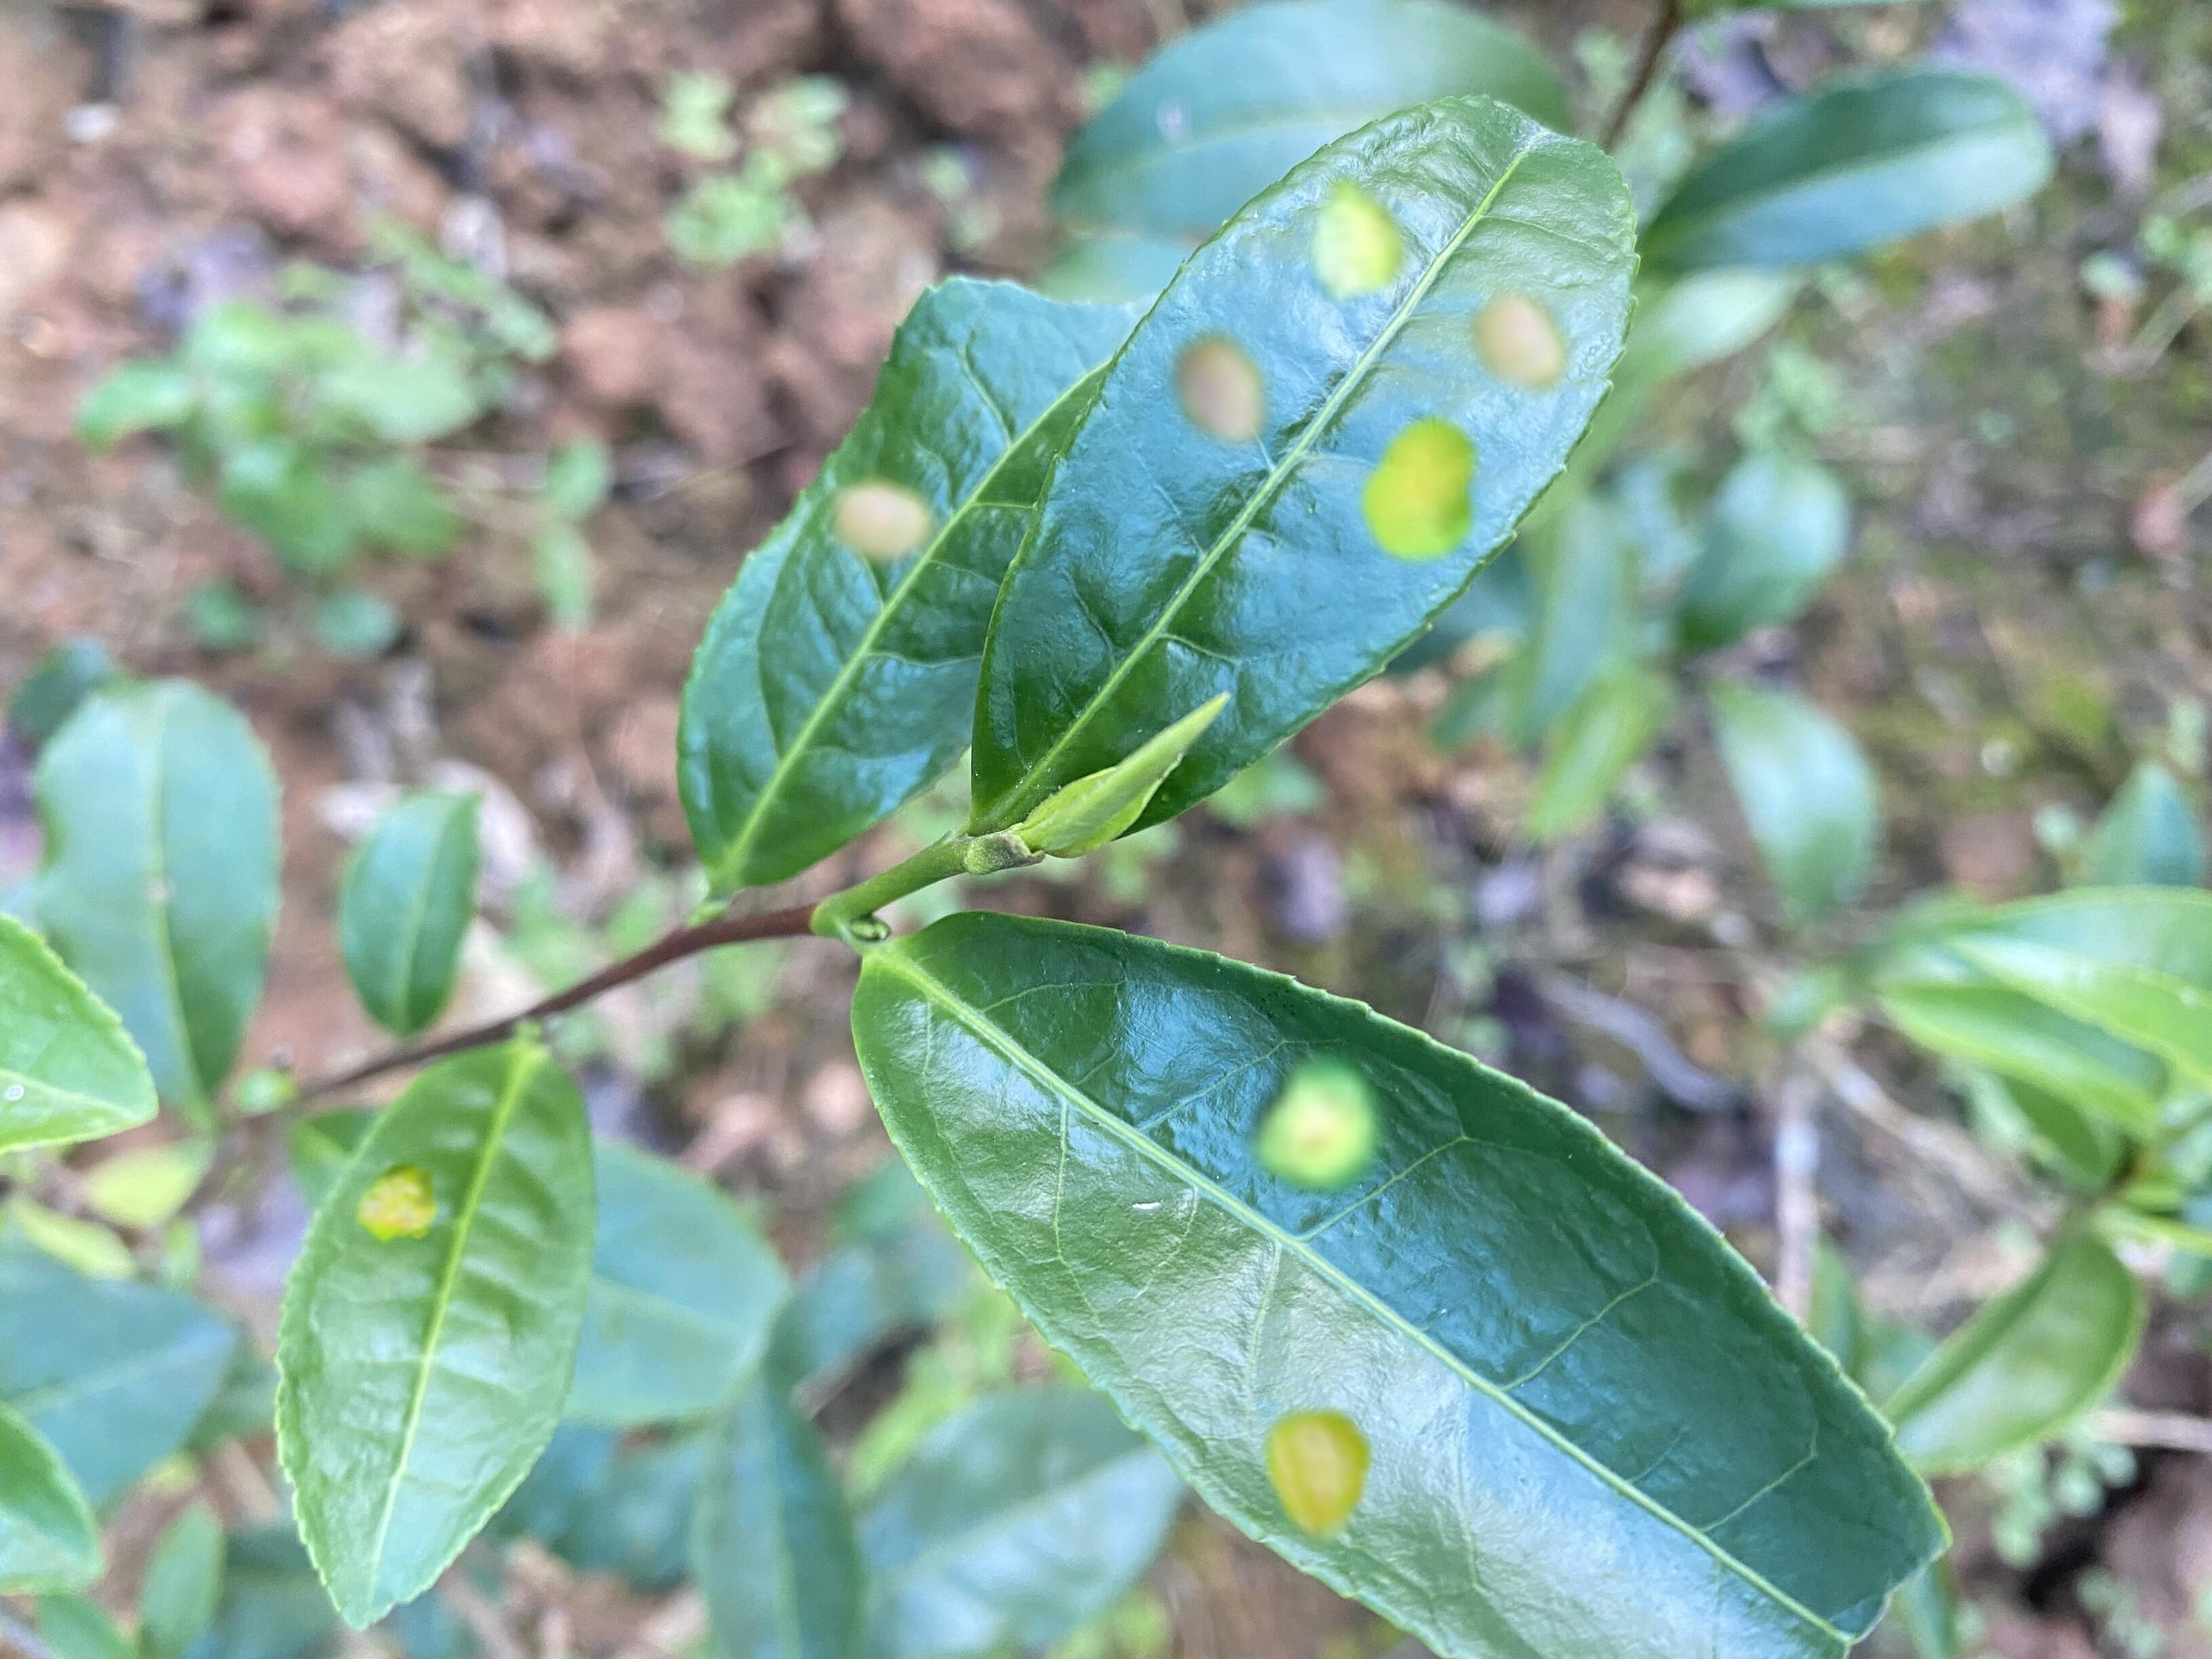chabing_high: (848, 915, 1949, 1656), (972, 94, 1641, 847)
chabing_low: (672, 275, 1136, 911), (273, 1040, 603, 1631)
